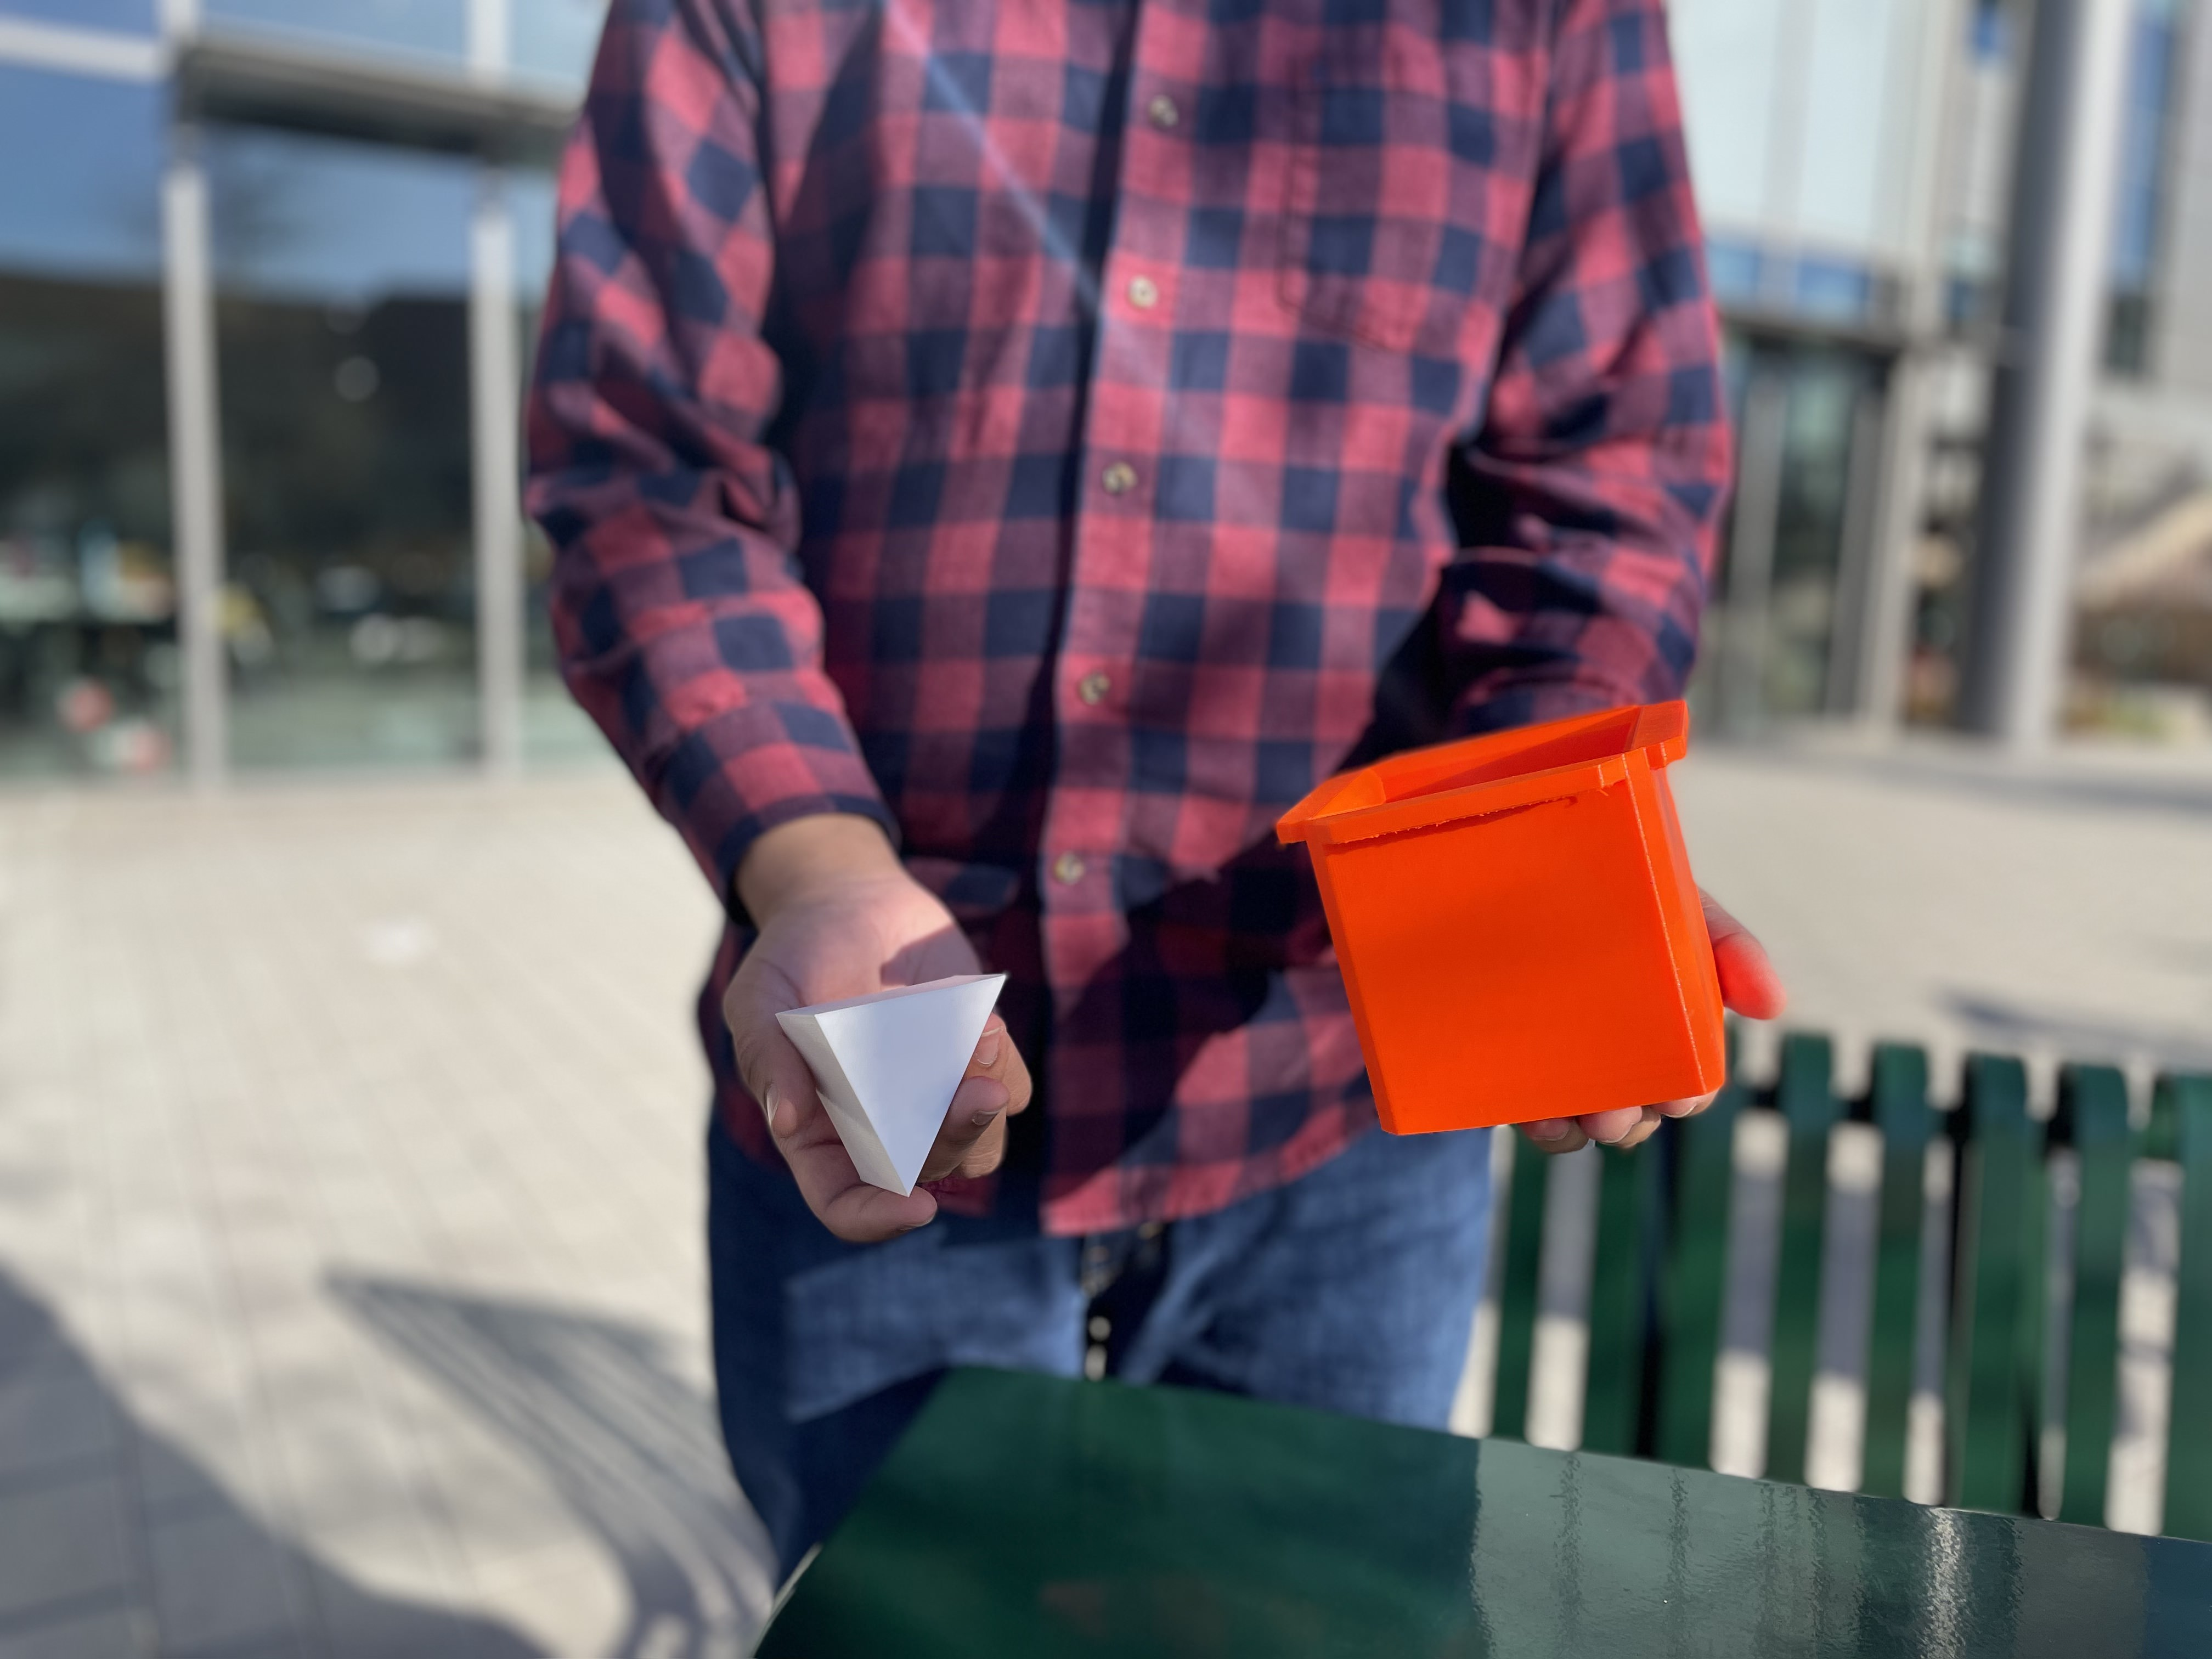payload1: (1256, 683, 1740, 1150)
payload2: (749, 953, 1024, 1206)
